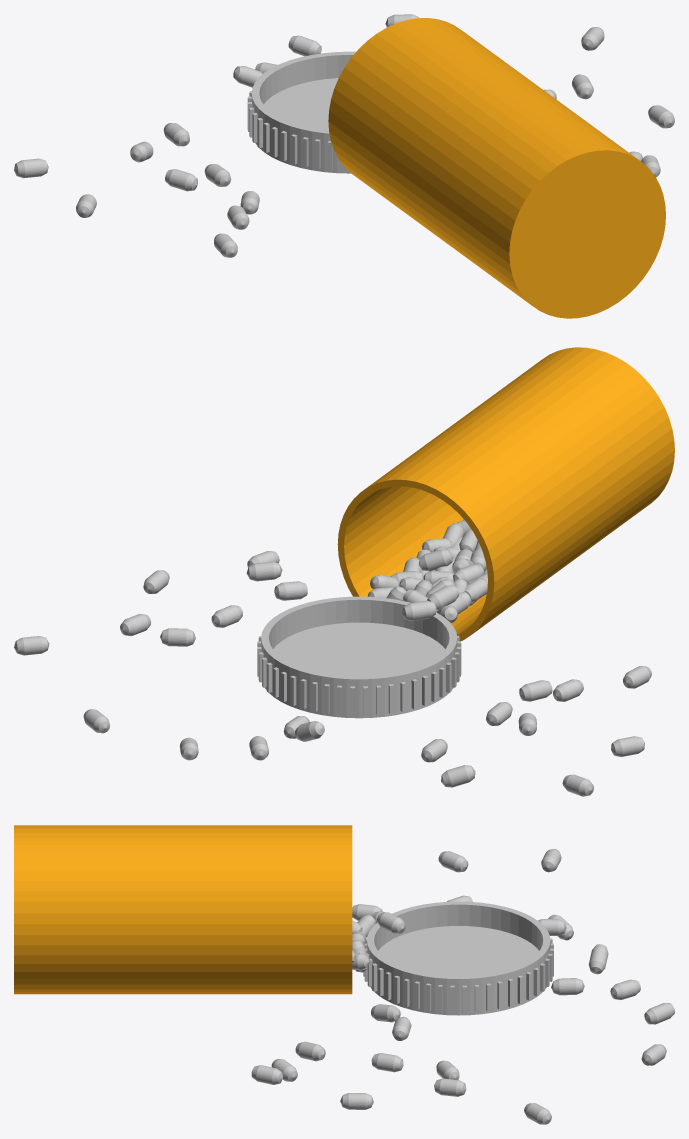
Rendered from Pills Drop.fbx.
3 views of the same model, one above another, from view 1: azimuth 30°, elevation 25°; view 2: azimuth 150°, elevation 25°; view 3: azimuth 270°, elevation 25° (orthographic). The views are drawn at different scales.
Parts seen in each view (by area): view 1: Cylinder, Capsule_131, Capsule_54, Capsule_48, Capsule_129, Capsule_31; view 2: Cylinder; view 3: Cylinder, Capsule_133, Capsule_18, Capsule_129, Capsule_108, Capsule_118, Capsule_48, Capsule_146, Capsule_39, Capsule_71, Capsule_149, Capsule_132 (+1 smaller).
Boxes of the visible parts, left/top/right/bottom form: Cylinder: left=247, top=18, right=665, bottom=318; Capsule_131: left=14, top=158, right=48, bottom=178; Capsule_54: left=165, top=169, right=197, bottom=191; Capsule_48: left=288, top=35, right=321, bottom=56; Capsule_129: left=648, top=105, right=674, bottom=128; Capsule_31: left=163, top=123, right=189, bottom=146; Cylinder: left=257, top=347, right=674, bottom=718; Cylinder: left=14, top=825, right=553, bottom=1015; Capsule_133: left=551, top=978, right=584, bottom=995; Capsule_18: left=434, top=1078, right=466, bottom=1096; Capsule_129: left=340, top=1093, right=373, bottom=1109; Capsule_108: left=371, top=1053, right=403, bottom=1072; Capsule_118: left=251, top=1065, right=282, bottom=1084; Capsule_48: left=644, top=1003, right=674, bottom=1024; Capsule_146: left=610, top=979, right=640, bottom=999; Capsule_39: left=295, top=1041, right=325, bottom=1061; Capsule_71: left=438, top=851, right=468, bottom=872; Capsule_149: left=588, top=944, right=608, bottom=974; Capsule_132: left=377, top=912, right=405, bottom=933.
Bounding box in the file's own units: 37.23 × 11.34 × 39.07.
